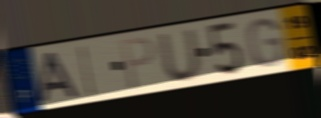5: (206, 19, 244, 77)
A: (37, 49, 81, 105)
G: (246, 16, 287, 69)
I: (78, 43, 97, 100)
P: (119, 34, 157, 92)
U: (156, 26, 205, 83)
